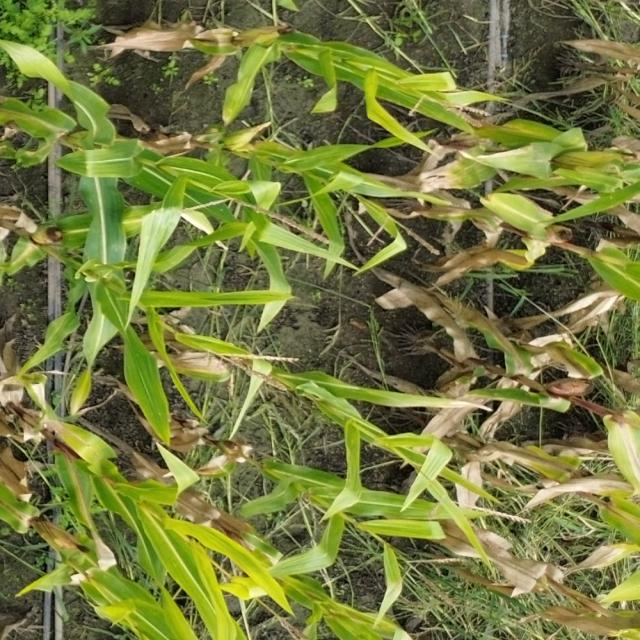northern-leaf-blight: (491, 328, 528, 372), (66, 464, 93, 520), (14, 108, 72, 134), (556, 344, 598, 378), (531, 448, 577, 478), (614, 425, 639, 476), (70, 430, 109, 460), (497, 117, 542, 139), (0, 494, 30, 524), (605, 504, 640, 527), (10, 242, 40, 267)
